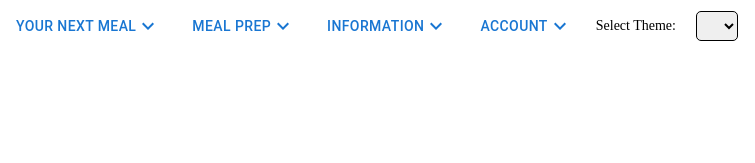
Test: shows Next Meal links in Navbar
Click the button "Your Next Meal" at (88, 26), box [8,8,168,44]
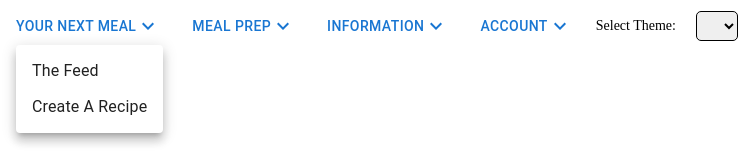
Expected: the menu item "Create A Recipe" is shown, [32,97,147,116]
Expected: the menu item "The Feed" is shown, [32,61,99,80]
